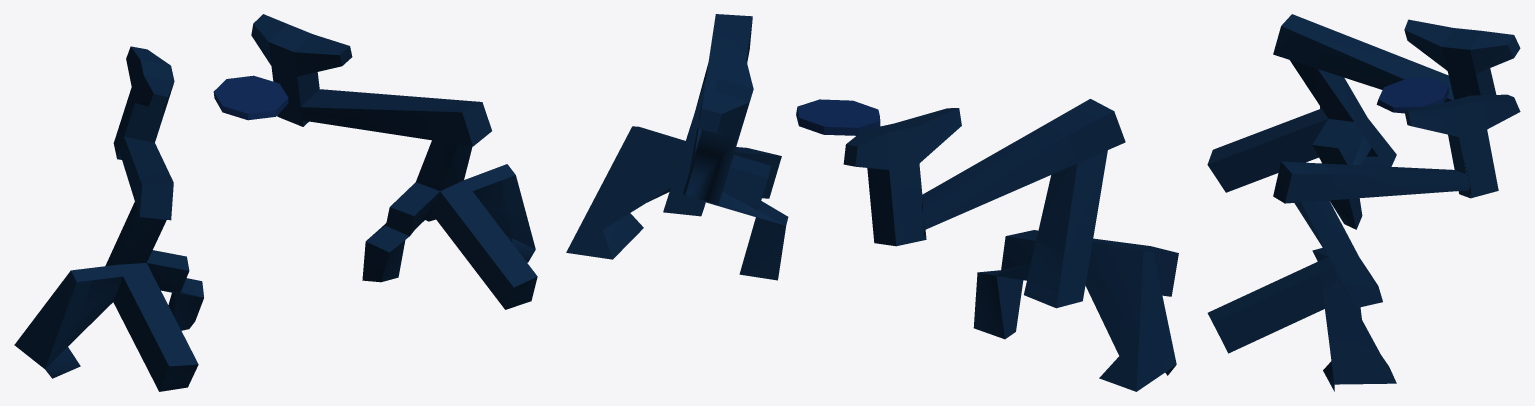
File: mech0legs.obj
3 views of the same model, side by side, from view 1: azimuth 30°, elevation 25°; view 2: azimuth 150°, elevation 25°; view 3: azimuth 270°, elevation 25° (orthographic). The views are drawn at different scales.
Visible parts, largest first — view 1: s.0739, s.0739Mirrored, s.0735; view 2: s.0739Mirrored, s.0739, s.0735; view 3: s.0739, s.0739Mirrored, s.0735.
Boxes of the visible parts, x1,y1,x2,y2 form: s.0739: (251,14,537,309); s.0739Mirrored: (14,46,203,391); s.0735: (213,75,288,120); s.0739Mirrored: (843,99,1178,391); s.0739: (566,14,788,280); s.0735: (796,99,880,135); s.0739: (1207,94,1520,391); s.0739Mirrored: (1207,14,1520,229); s.0735: (1376,78,1448,113).
Bounding box in the file's own units: 5.31 × 2.31 × 3.04.
